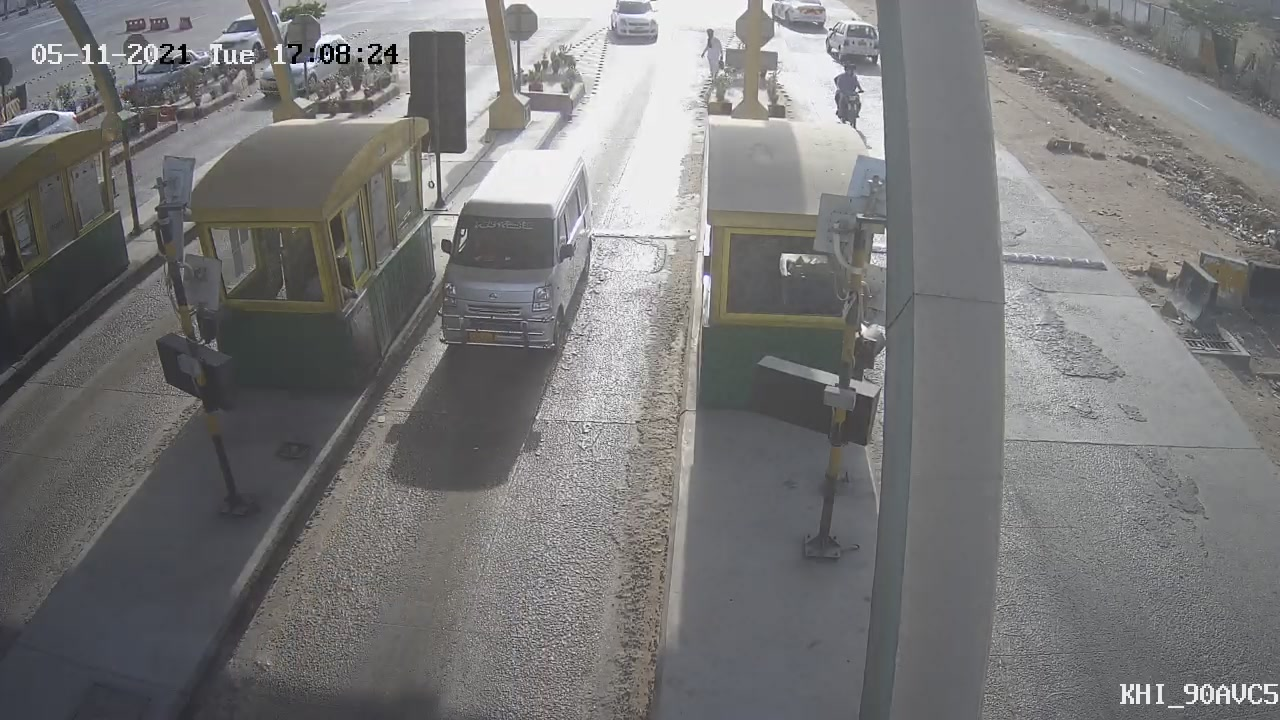F1: (413, 130, 616, 377)
